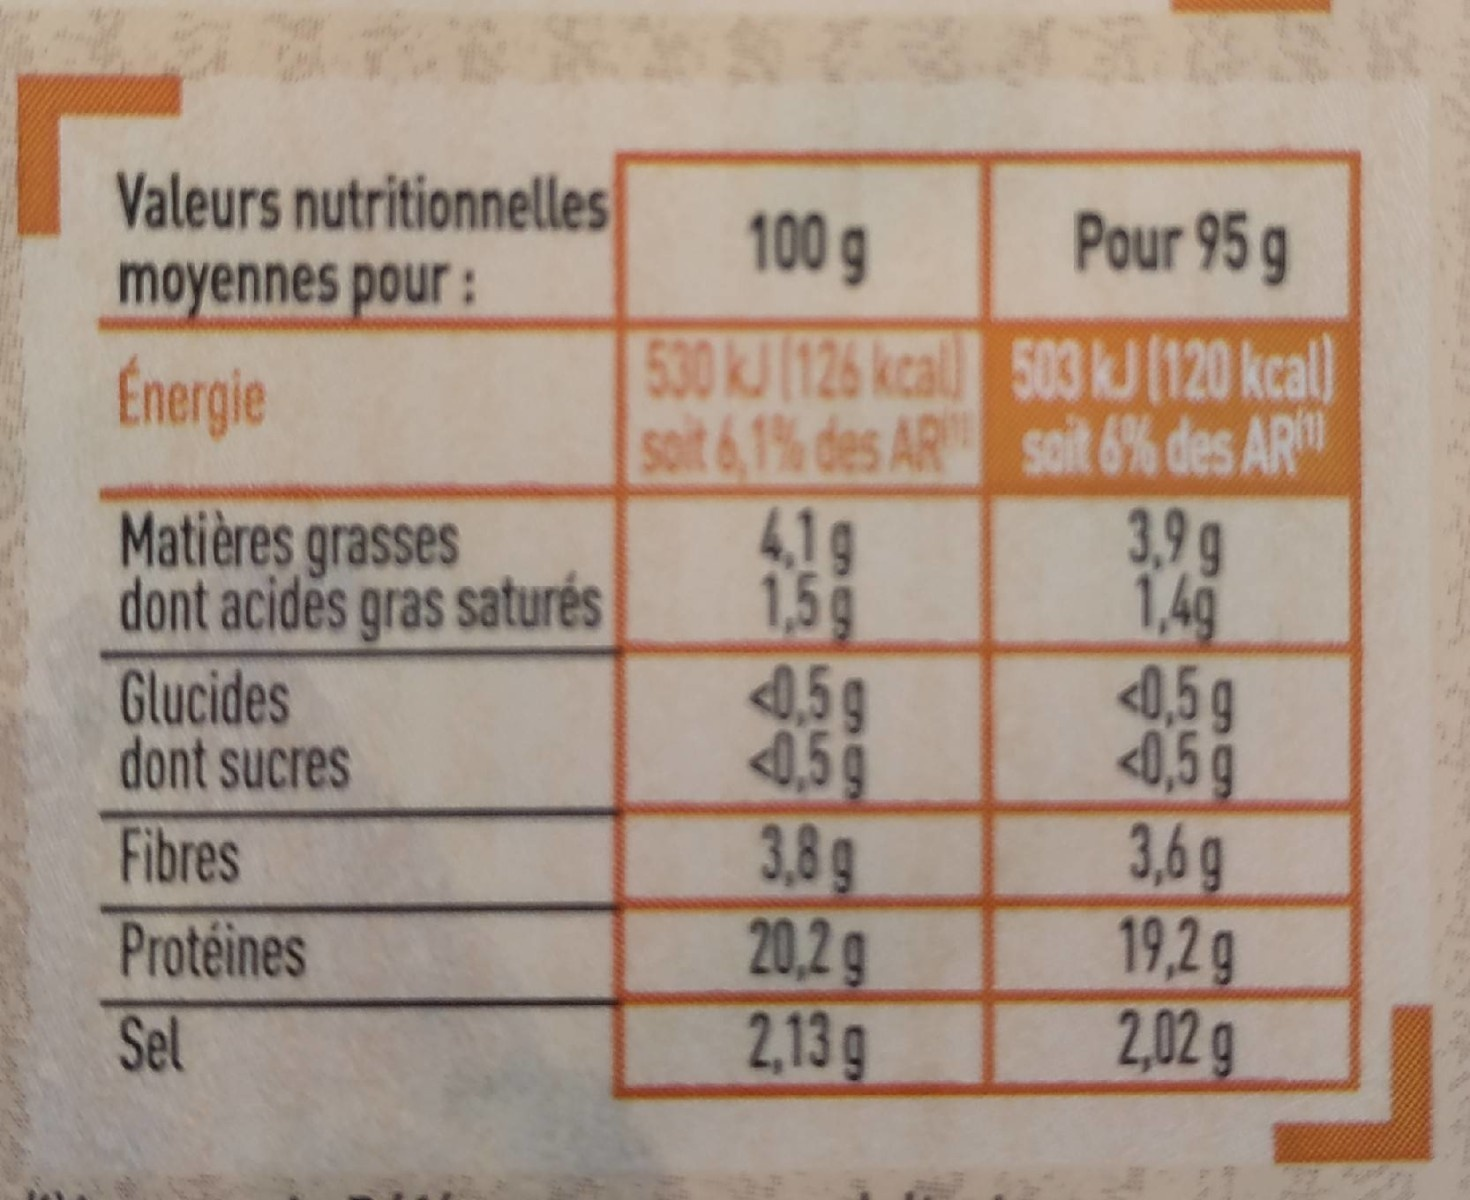column: (118, 166, 612, 1079), (1007, 170, 1337, 1079), (645, 179, 968, 1079)
table: (107, 153, 1359, 1097)
